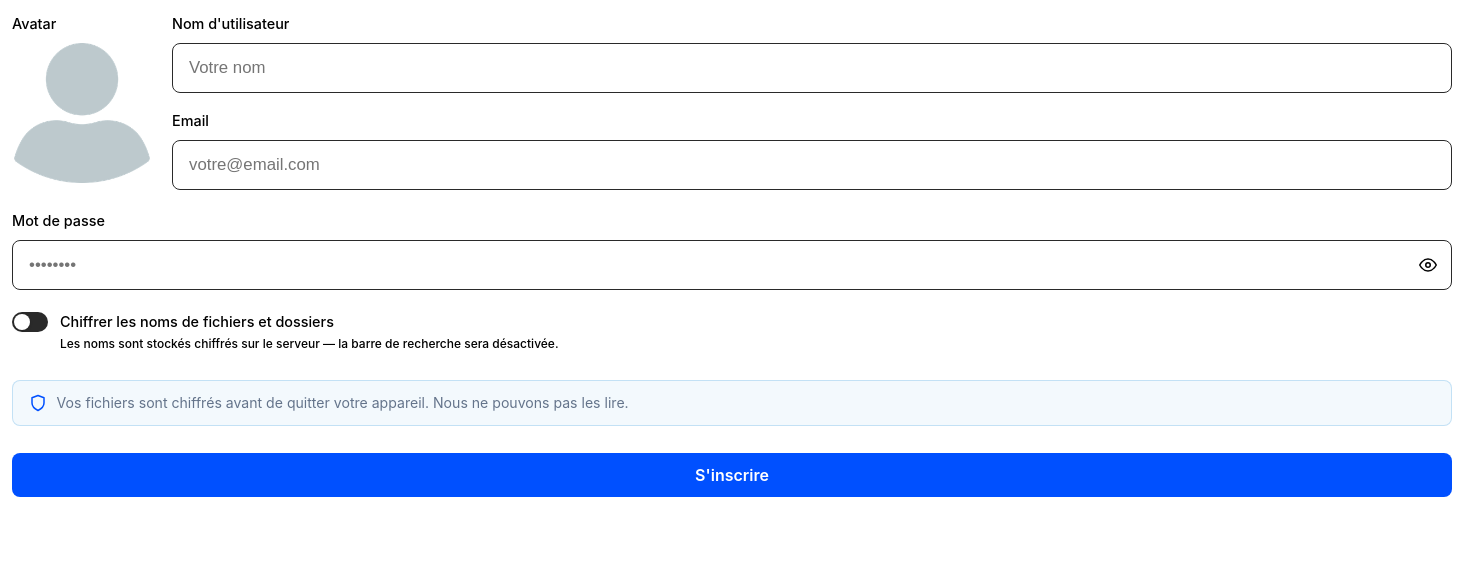
Scenario: registerComponent — registration form › shows duplicate email error when backend returns an error
Type "TestUser" into the field with placeholder "Votre nom" at (812, 68), box [172,43,1452,93]
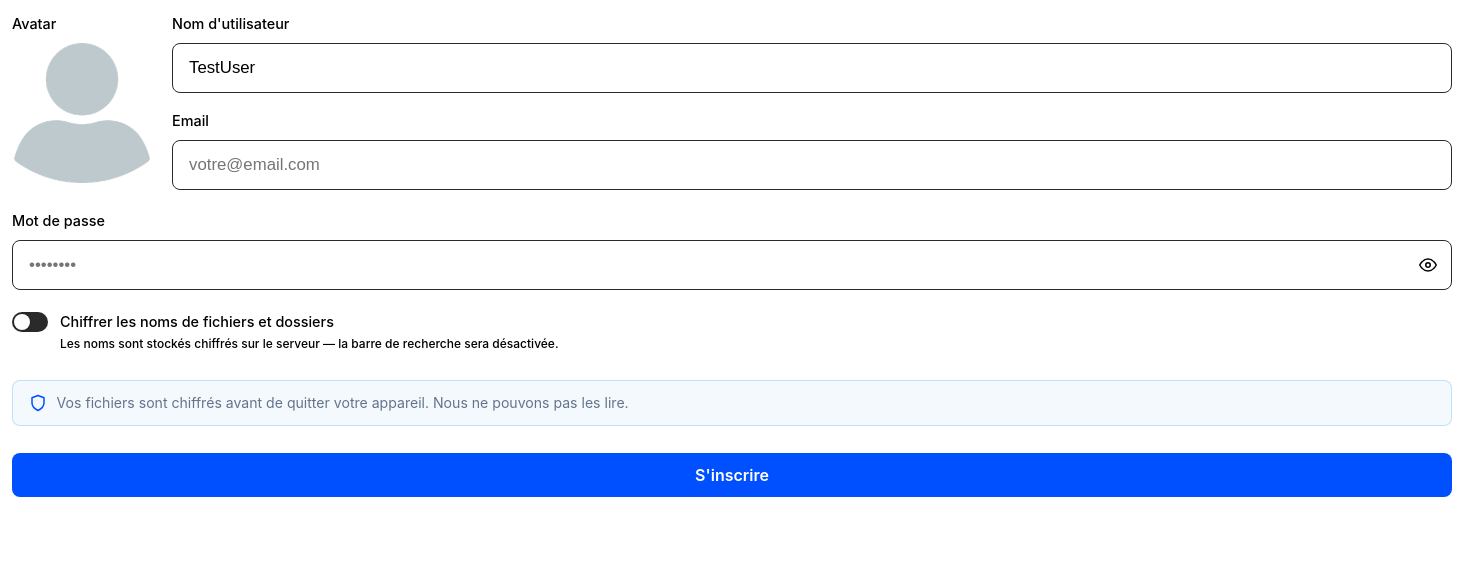
Type "user@example.com" into the field with placeholder "votre@email.com" at (812, 165), box [172,140,1452,190]
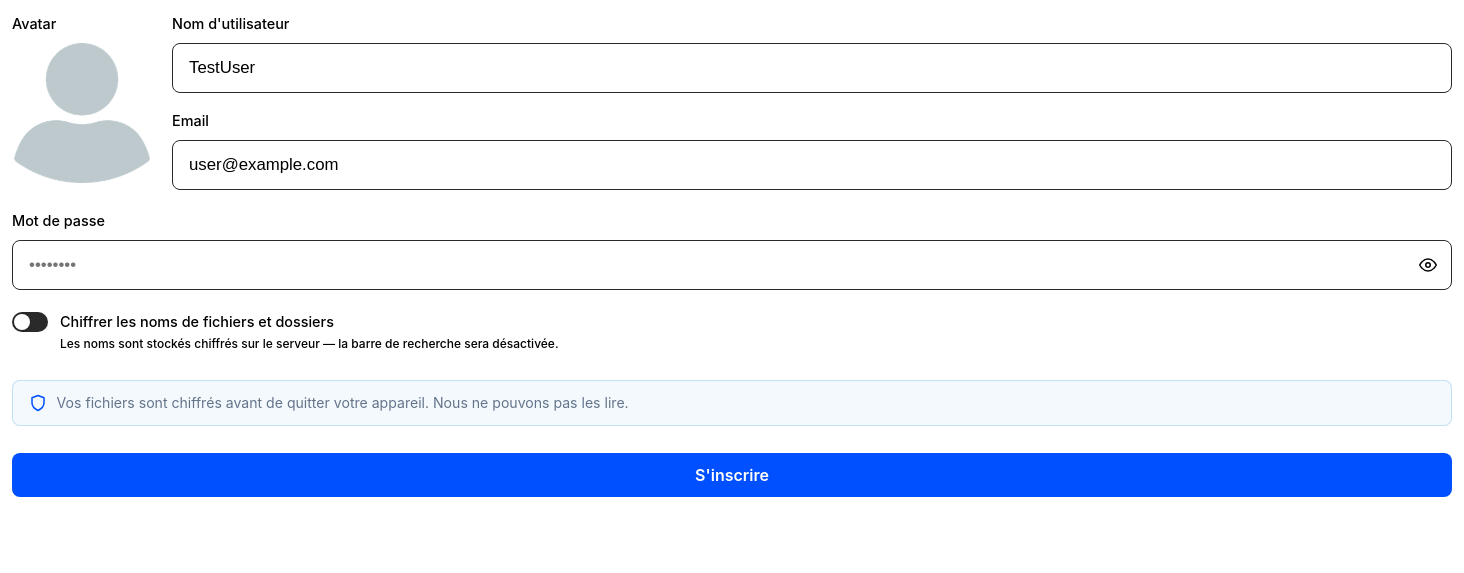
Type "Abcdefghijklmnopqrst1!" into the password field with placeholder "••••••••" at (732, 265), box [12,240,1452,290]
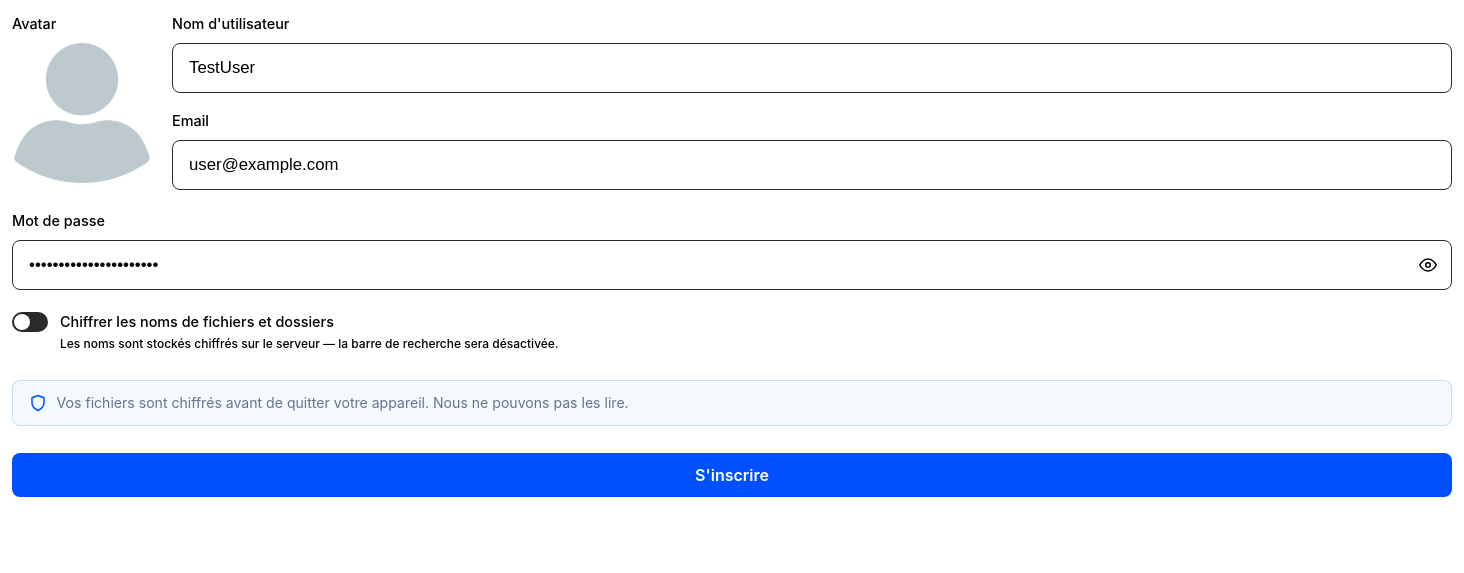
Submit the form
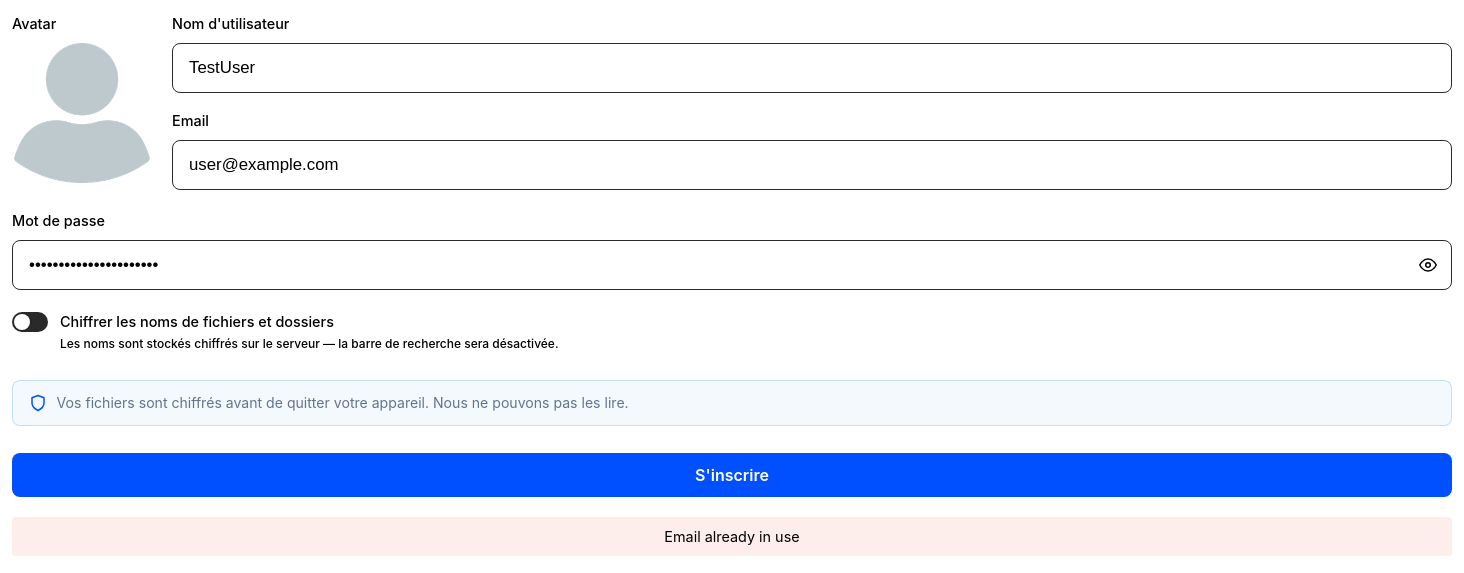
Result: the text with class "error-message" reads "Email already in use" at [664,528,800,544]
